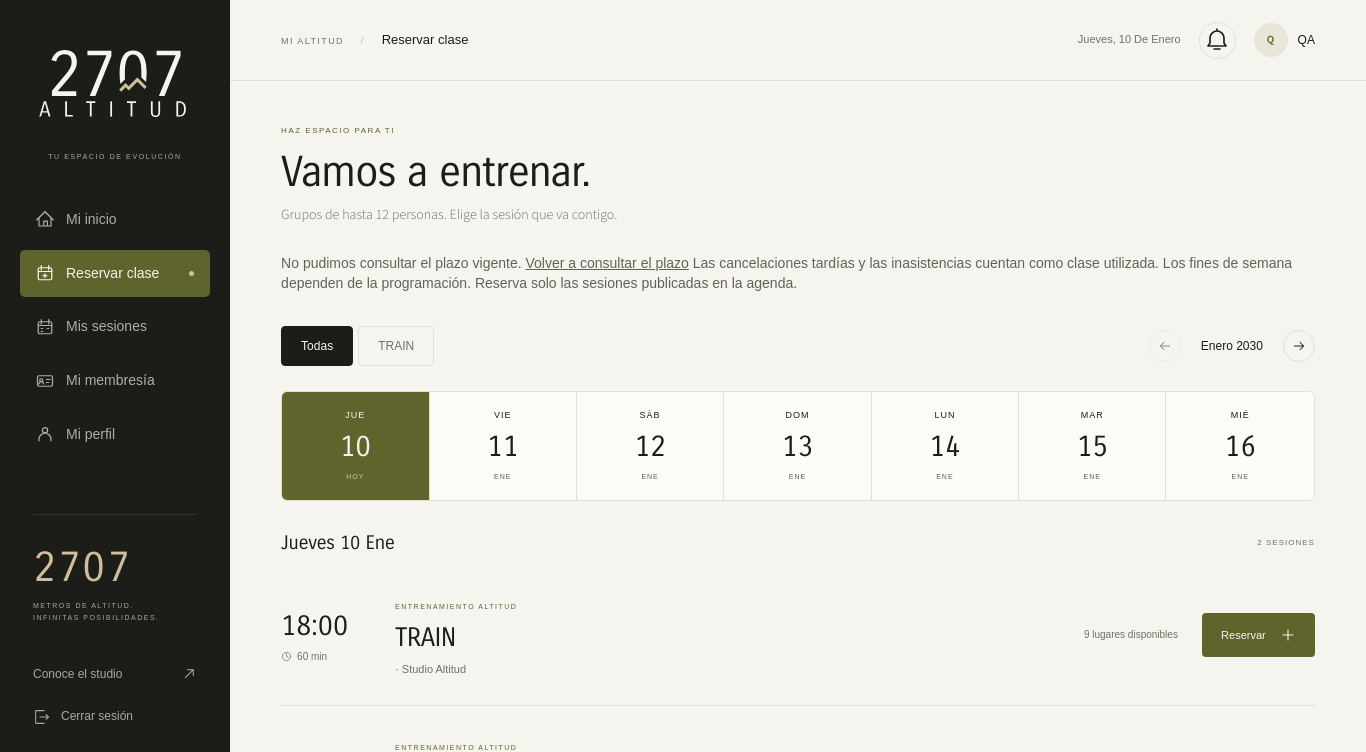
does not invite a pointless retry after the server rejects the booking
This screenshot has width=1366, height=752.
What coordinates should you click on to do the following:
click the button "Reservar"
I would click on:
 (1258, 635)
Its box is [1202,613,1315,657].
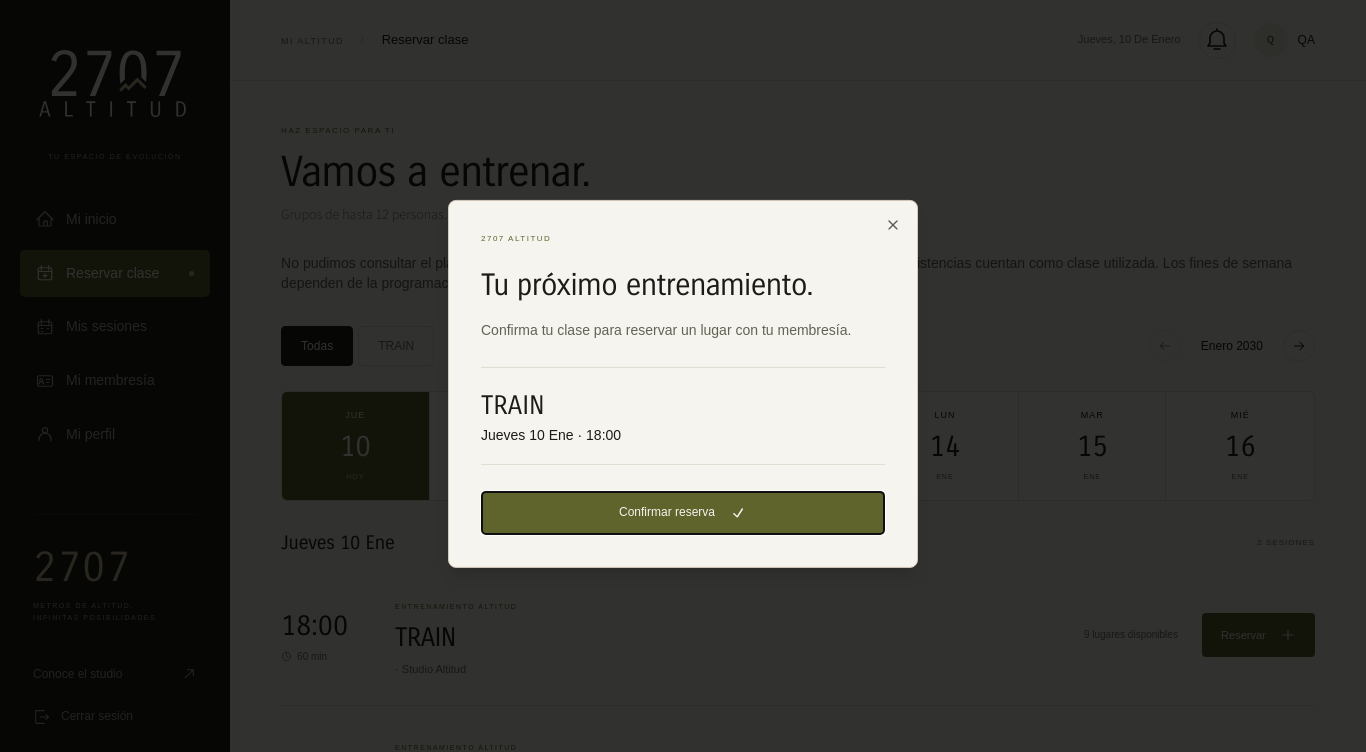
What coordinates should you click on to do the following:
click the button "Confirmar reserva"
I would click on:
 (683, 513)
Its box is [481,491,885,535].
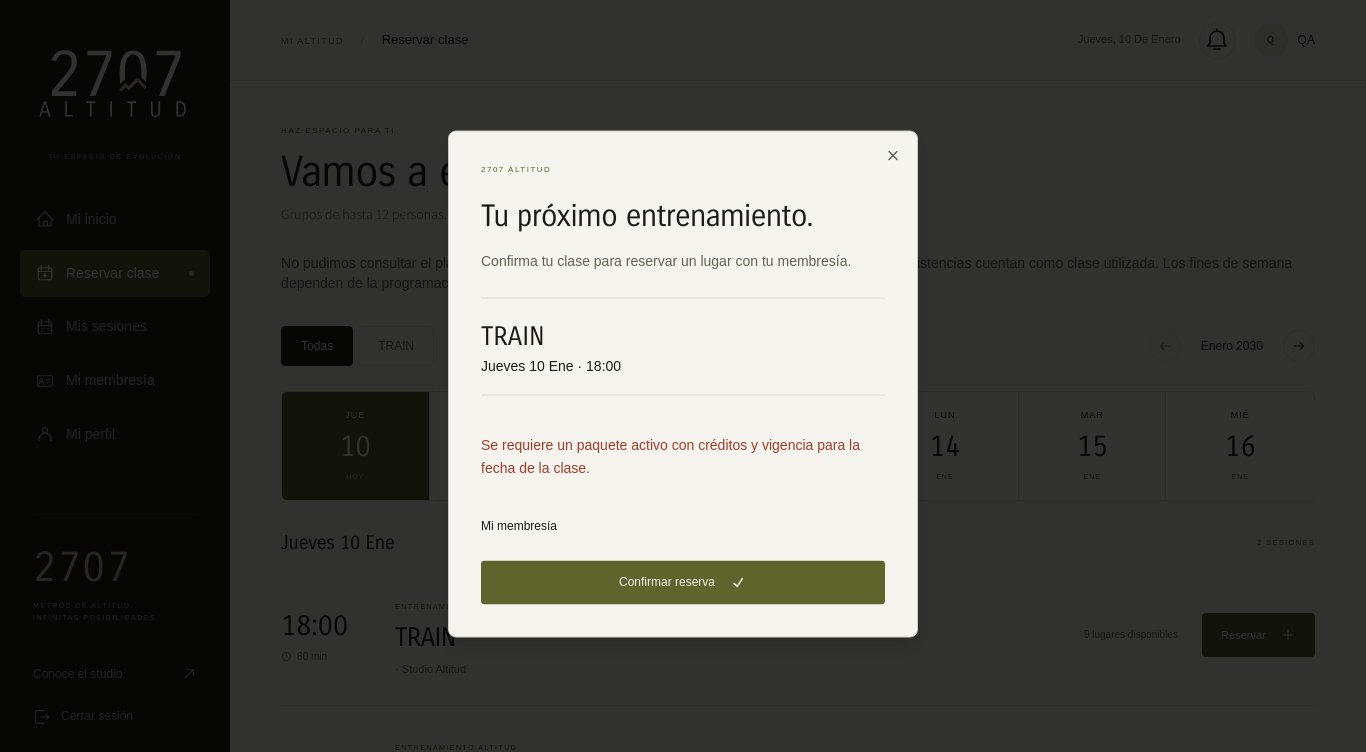
Result: the text "Se requiere un paquete activo con créditos y vigencia para la fecha de la clase." is shown at [481,437,860,475]
Result: the button "Confirmar reserva" is disabled at [481,560,885,604]
